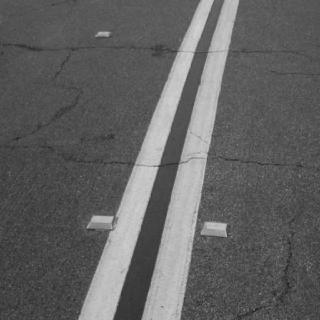other: (204, 215, 230, 239)
